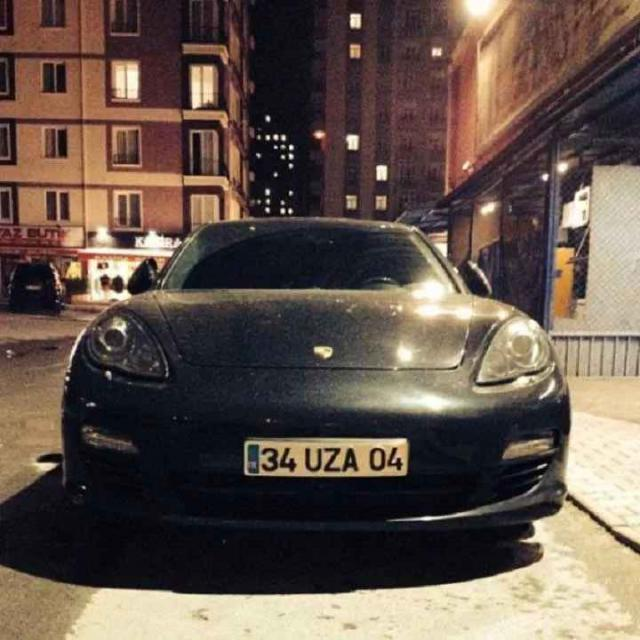plate: (242, 439, 411, 481)
